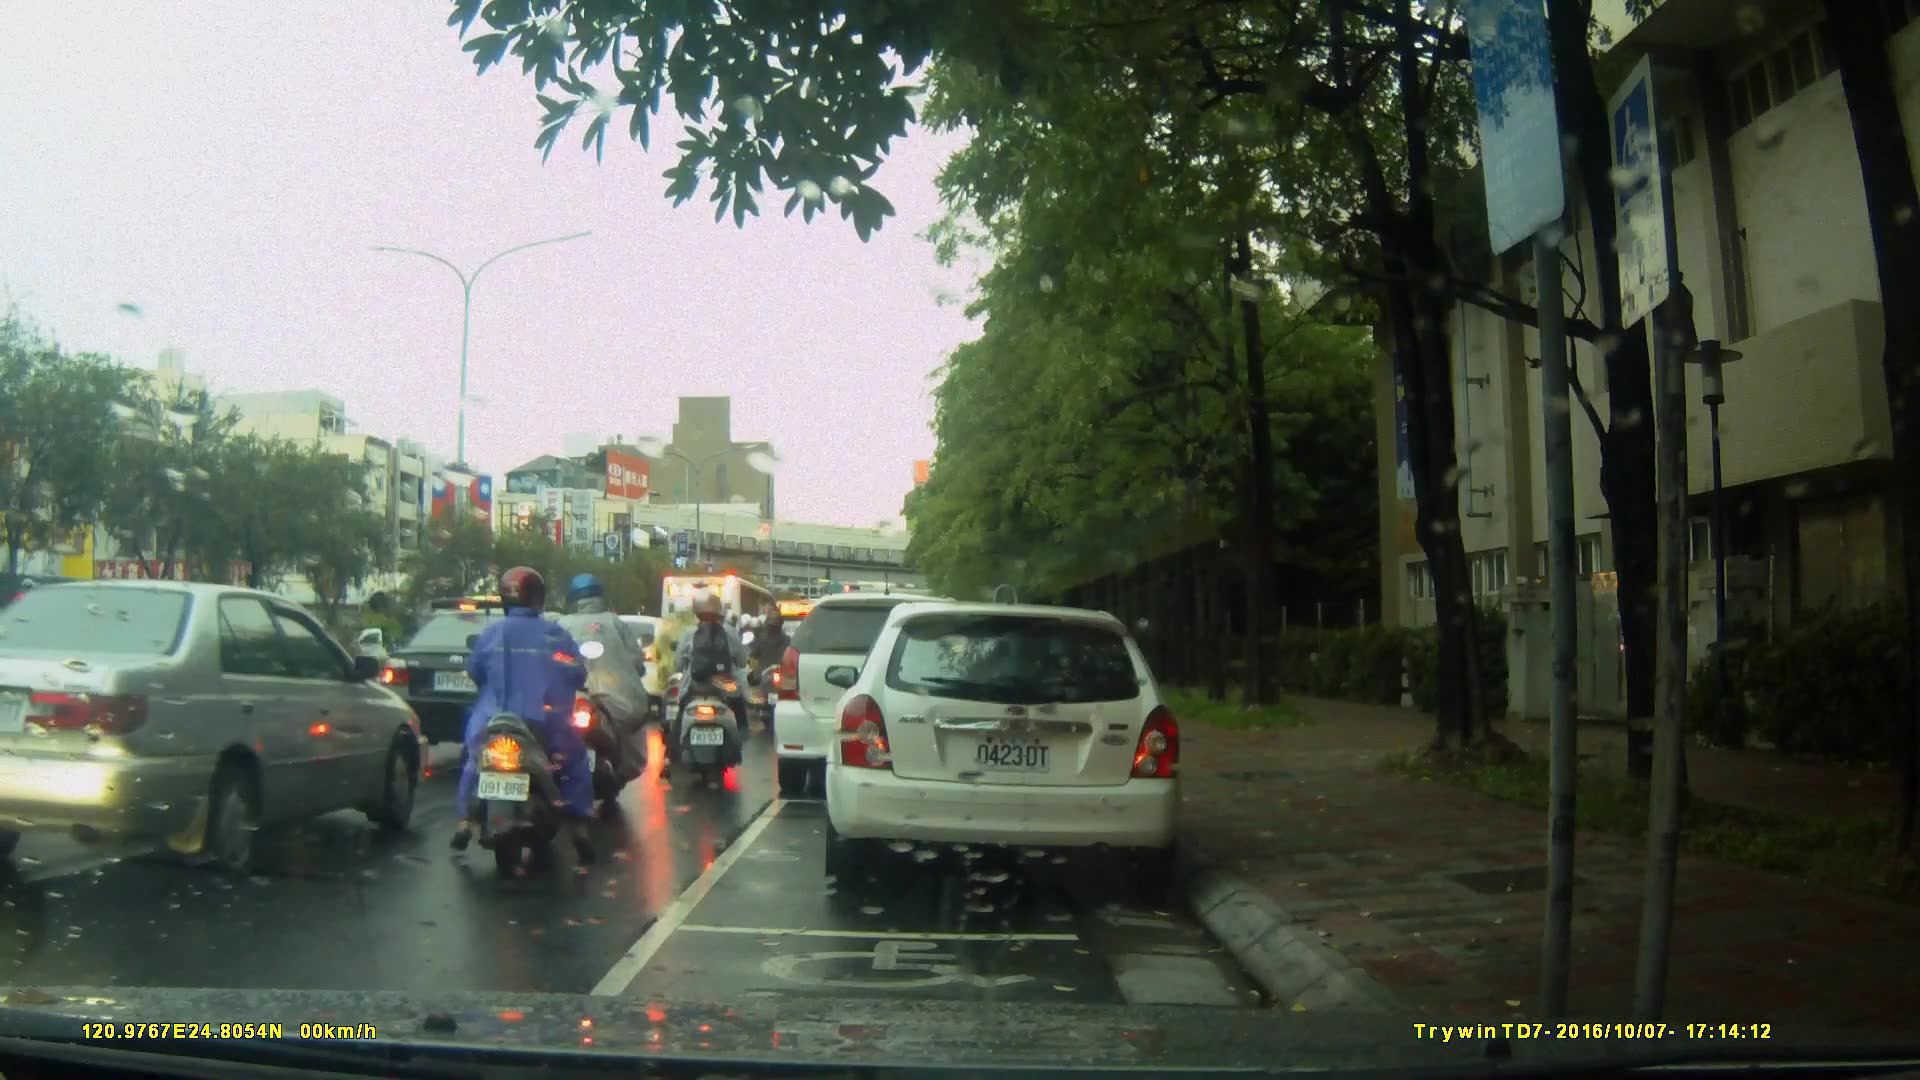rider: (461, 568, 604, 881), (553, 570, 652, 811), (669, 593, 746, 774), (639, 601, 715, 752), (749, 612, 794, 730)
vehicle: (1, 578, 434, 891), (831, 592, 1196, 897), (768, 592, 999, 801), (375, 607, 588, 747), (658, 573, 789, 703), (551, 615, 683, 721)
